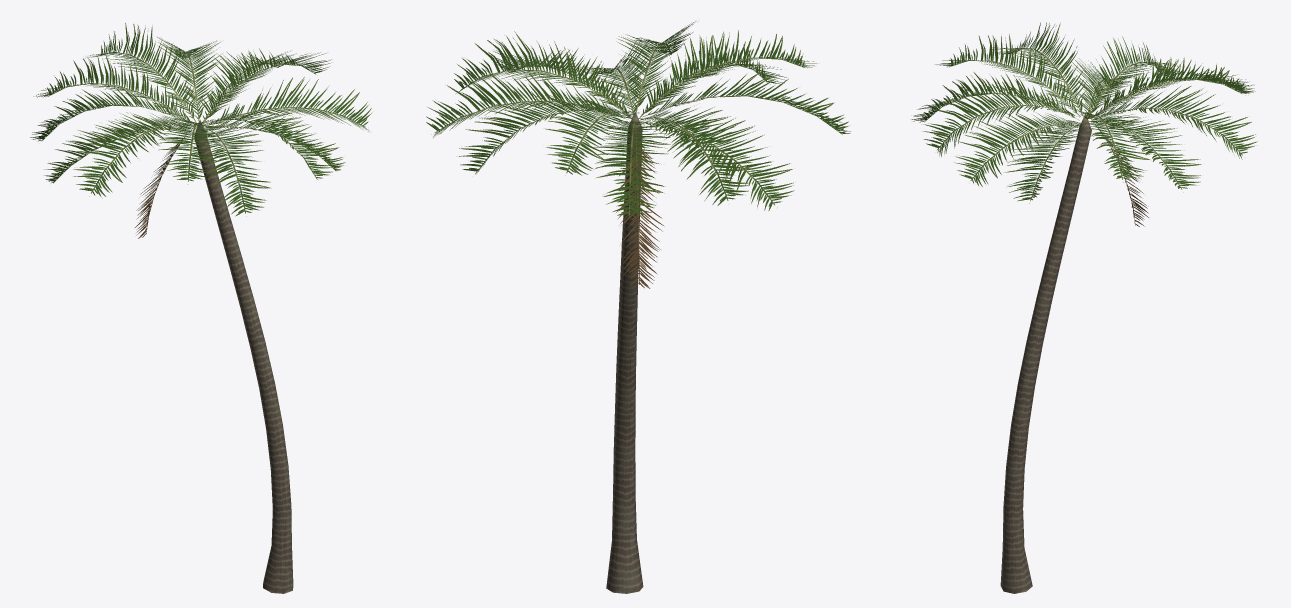
Rendered from palm_tree_02_lod1.glb.
3 renders of one model, left to right at view 1: azimuth 30°, elevation 25°; view 2: azimuth 150°, elevation 25°; view 3: azimuth 270°, elevation 25°, orthographic. The views are drawn at different scales.
Parts seen in each view (by area): view 1: palm_tree_02_lod1; view 2: palm_tree_02_lod1; view 3: palm_tree_02_lod1.
Boxes of the visible parts, box(x1,y1,x2,y2) form: palm_tree_02_lod1: box(30, 23, 372, 593); palm_tree_02_lod1: box(426, 21, 850, 593); palm_tree_02_lod1: box(911, 22, 1257, 593).
Bounding box in the file's own units: 7.78 × 11.09 × 7.66.
Materials: 2 (2 with a texture image).
